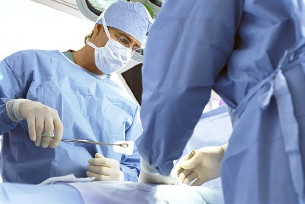Mask: (93, 27, 141, 74)
